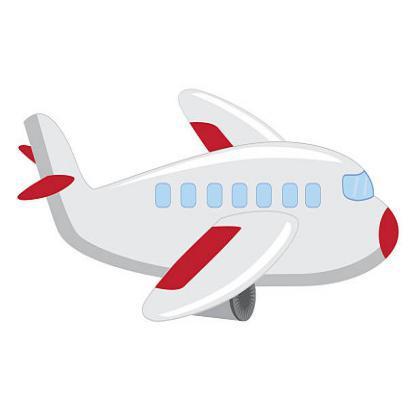CIV_Plane: (6, 84, 401, 336)
